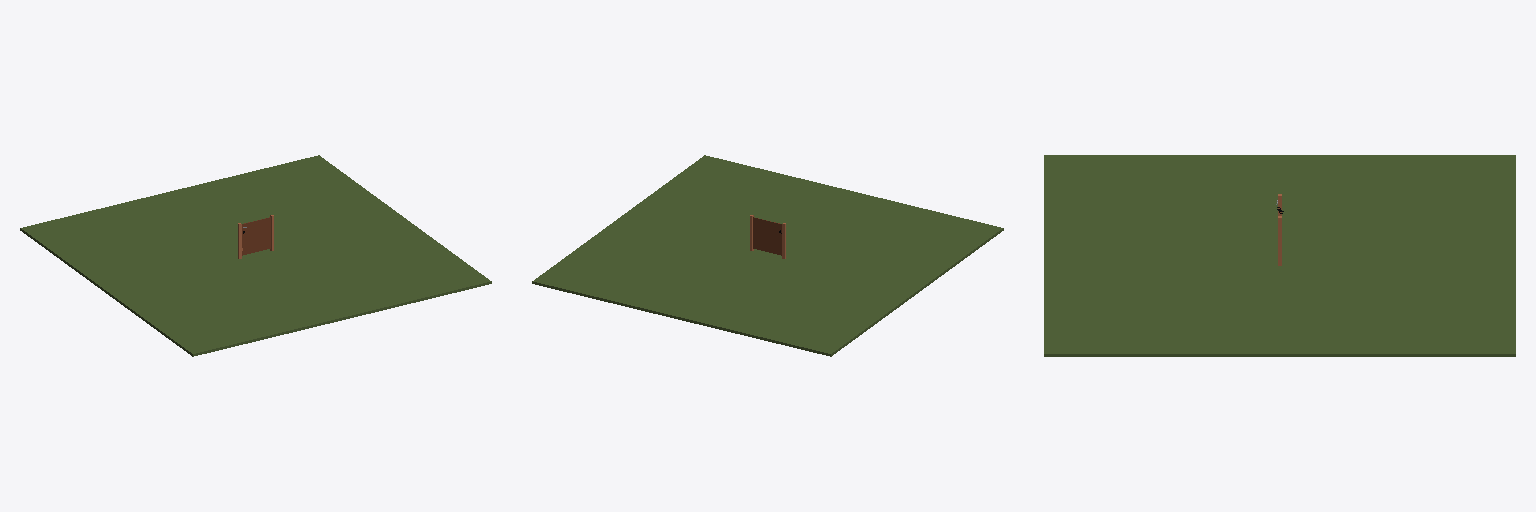
The robot description file, URDF, robot "db0098_gate_swing_minimal":
<?xml version="1.0" ?>
<robot xmlns:doorbench="https://github.com/adamraudonis/DoorBench/schema/urdf-ext" name="db0098_gate_swing_minimal">
  <link name="world_env">
    <visual name="floor_vis">
      <origin xyz="0 0 -0.05" rpy="0 0 0"/>
      <geometry>
        <box size="12 12 0.1"/>
      </geometry>
      <material name="mat_floor"/>
    </visual>
    <collision name="floor_col">
      <origin xyz="0 0 -0.05" rpy="0 0 0"/>
      <geometry>
        <box size="12 12 0.1"/>
      </geometry>
    </collision>
    <visual name="leaf_staple_leg_n_vis">
      <origin xyz="-0.634 -0.063 1.2125" rpy="-1.570796 0 3.141593"/>
      <geometry>
        <box size="0.006 0.005 0.026"/>
      </geometry>
      <material name="mat_op_steel_galvanized"/>
    </visual>
    <collision name="leaf_staple_leg_n_col">
      <origin xyz="-0.634 -0.063 1.2125" rpy="-1.570796 0 3.141593"/>
      <geometry>
        <box size="0.006 0.005 0.026"/>
      </geometry>
    </collision>
    <visual name="leaf_staple_leg_p_vis">
      <origin xyz="-0.634 -0.063 1.1875" rpy="-1.570796 0 3.141593"/>
      <geometry>
        <box size="0.006 0.005 0.026"/>
      </geometry>
      <material name="mat_op_steel_galvanized"/>
    </visual>
    <collision name="leaf_staple_leg_p_col">
      <origin xyz="-0.634 -0.063 1.1875" rpy="-1.570796 0 3.141593"/>
      <geometry>
        <box size="0.006 0.005 0.026"/>
      </geometry>
    </collision>
    <visual name="leaf_staple_bridge_vis">
      <origin xyz="-0.634 -0.0735 1.2" rpy="-1.570796 0 3.141593"/>
      <geometry>
        <box size="0.006 0.03 0.005"/>
      </geometry>
      <material name="mat_op_steel_galvanized"/>
    </visual>
    <collision name="leaf_staple_bridge_col">
      <origin xyz="-0.634 -0.0735 1.2" rpy="-1.570796 0 3.141593"/>
      <geometry>
        <box size="0.006 0.03 0.005"/>
      </geometry>
    </collision>
    <visual name="leaf_staple_base_vis">
      <origin xyz="-0.634 -0.051 1.2" rpy="-1.570796 0 3.141593"/>
      <geometry>
        <box size="0.032 0.042 0.002"/>
      </geometry>
      <material name="mat_op_steel_galvanized"/>
    </visual>
    <visual name="post_hinge_vis">
      <origin xyz="0.656 0 0.675" rpy="0 0 0"/>
      <geometry>
        <box size="0.1 0.1 1.35"/>
      </geometry>
      <material name="mat_frame"/>
    </visual>
    <collision name="post_hinge_col">
      <origin xyz="0.656 0 0.675" rpy="0 0 0"/>
      <geometry>
        <box size="0.1 0.1 1.35"/>
      </geometry>
    </collision>
    <visual name="post_latch_vis">
      <origin xyz="-0.656 0 0.675" rpy="0 0 0"/>
      <geometry>
        <box size="0.1 0.1 1.35"/>
      </geometry>
      <material name="mat_frame"/>
    </visual>
    <collision name="post_latch_col">
      <origin xyz="-0.656 0 0.675" rpy="0 0 0"/>
      <geometry>
        <box size="0.1 0.1 1.35"/>
      </geometry>
    </collision>
    <visual name="gate_stop_vis">
      <origin xyz="-0.586 -0.0465 0.35" rpy="0 0 0"/>
      <geometry>
        <box size="0.04 0.024 0.12"/>
      </geometry>
      <material name="mat_frame"/>
    </visual>
    <collision name="gate_stop_col">
      <origin xyz="-0.586 -0.0465 0.35" rpy="0 0 0"/>
      <geometry>
        <box size="0.04 0.024 0.12"/>
      </geometry>
    </collision>
  </link>
  <link name="leaf">
    <inertial>
      <origin xyz="-0.62561 -0.05 0.714918" rpy="0 0 0"/>
      <mass value="14.53516"/>
      <inertia ixx="1.717322246" ixy="0" ixz="0.101781729" iyy="3.544435349" iyz="0.000866511" izz="1.832046458"/>
    </inertial>
    <visual name="leaf_slab_vis">
      <origin xyz="-0.6 -0.05 0.7" rpy="0 0 0"/>
      <geometry>
        <box size="1.2 0.025 1.2"/>
      </geometry>
      <material name="mat_leaf"/>
    </visual>
    <collision name="leaf_slab_col">
      <origin xyz="-0.6 -0.05 0.7" rpy="0 0 0"/>
      <geometry>
        <box size="1.2 0.025 1.2"/>
      </geometry>
    </collision>
    <visual name="leaf_ring_pull_n_vis">
      <origin xyz="-1.095 -0.0625 1" rpy="-1.570796 0 3.141593"/>
      <geometry>
        <mesh filename="../../hardware/ring_cc5c941a8a.obj"/>
      </geometry>
      <material name="mat_op_wrought_iron"/>
    </visual>
    <collision name="leaf_ring_pull_col_n_col">
      <origin xyz="-1.095 -0.0945 0.94" rpy="0 1.570796 0"/>
      <geometry>
        <cylinder radius="0.008" length="0.1"/>
      </geometry>
    </collision>
    <visual name="leaf_ring_pull_p_vis">
      <origin xyz="-1.095 -0.0375 1" rpy="1.570796 0 3.141593"/>
      <geometry>
        <mesh filename="../../hardware/ring_cc5c941a8a.obj"/>
      </geometry>
      <material name="mat_op_wrought_iron"/>
    </visual>
    <collision name="leaf_ring_pull_col_p_col">
      <origin xyz="-1.095 -0.0055 0.94" rpy="0 1.570796 0"/>
      <geometry>
        <cylinder radius="0.008" length="0.1"/>
      </geometry>
    </collision>
  </link>
  <link name="leaf_hasp">
    <inertial>
      <origin xyz="0.054209 -0.017681 0" rpy="0 0 0"/>
      <mass value="0.093366"/>
      <inertia ixx="0.00002094" ixy="0.000031893" ixz="0" iyy="0.000099307" iyz="0" izz="0.000101185"/>
    </inertial>
    <visual name="leaf_hasp_strap_vis">
      <origin xyz="0.054209 -0.017681 0" rpy="-1.570796 0 -0.341593"/>
      <geometry>
        <box size="0.114 0.035 0.003"/>
      </geometry>
      <material name="mat_op_steel_galvanized"/>
    </visual>
    <collision name="leaf_hasp_strap_col">
      <origin xyz="0.054209 -0.017681 0" rpy="-1.570796 0 -0.341593"/>
      <geometry>
        <box size="0.114 0.035 0.003"/>
      </geometry>
    </collision>
  </link>
  <joint name="leaf_hinge" type="revolute">
    <origin xyz="0.603 0.05 0" rpy="0 0 0"/>
    <parent link="world_env"/>
    <child link="leaf"/>
    <axis xyz="0 0 -1"/>
    <limit lower="0" upper="1.396263" effort="2000" velocity="10"/>
    <dynamics damping="1.449391" friction="0.986133"/>
    <doorbench:spring stiffness="5" springref="-0.8" note="tau = -stiffness*(q - springref); not native URDF"/>
    <doorbench:closer damping_closing="1" damping_opening="1" backcheck_angle="0" backcheck_damping="0"/>
  </joint>
  <joint name="leaf_hasp_hinge" type="revolute">
    <origin xyz="-1.145 -0.104 1.2" rpy="0 0 0"/>
    <parent link="leaf"/>
    <child link="leaf_hasp"/>
    <axis xyz="0 0 1"/>
    <doorbench:zero_offset value="2.8" note="URDF q=0 is the spec initial state; DoorBench q = urdf_q + value"/>
    <limit lower="-2.8" upper="0.1" effort="2000" velocity="10"/>
    <dynamics damping="0.02" friction="0.05"/>
  </joint>
  <material name="mat_floor">
    <color rgba="0.35 0.42 0.25 1"/>
  </material>
  <material name="mat_frame">
    <color rgba="0.7 0.45 0.32 1"/>
  </material>
  <material name="mat_leaf">
    <color rgba="0.485 0.296 0.2 1"/>
  </material>
  <material name="mat_op_steel_galvanized">
    <color rgba="0.65 0.66 0.68 1"/>
  </material>
  <material name="mat_op_wrought_iron">
    <color rgba="0.08 0.08 0.09 1"/>
  </material>
</robot>

--- What the picture shows (computed from the rendered views, not written in the file) ---
3 views of the same robot in one strip: view 1: azimuth 30°, elevation 25°; view 2: azimuth 150°, elevation 25°; view 3: azimuth 270°, elevation 25° (orthographic).
Model db0098_gate_swing_minimal with 3 links and 2 joints (2 revolute), rooted at world_env, posed every joint at zero.
Links seen in each view (by area): view 1: world_env, leaf; view 2: world_env, leaf; view 3: world_env.
Boxes of the visible links, bbox=[...] form: world_env: bbox=[20, 155, 491, 356]; leaf: bbox=[242, 217, 270, 255]; world_env: bbox=[532, 155, 1003, 356]; leaf: bbox=[753, 217, 781, 255]; world_env: bbox=[1044, 155, 1515, 356].
Size in the robot's own frame: 12 by 12 by 1.45 metres.
Meshes: 1 distinct files referenced, 2 mesh visuals loaded (1 OBJ).
